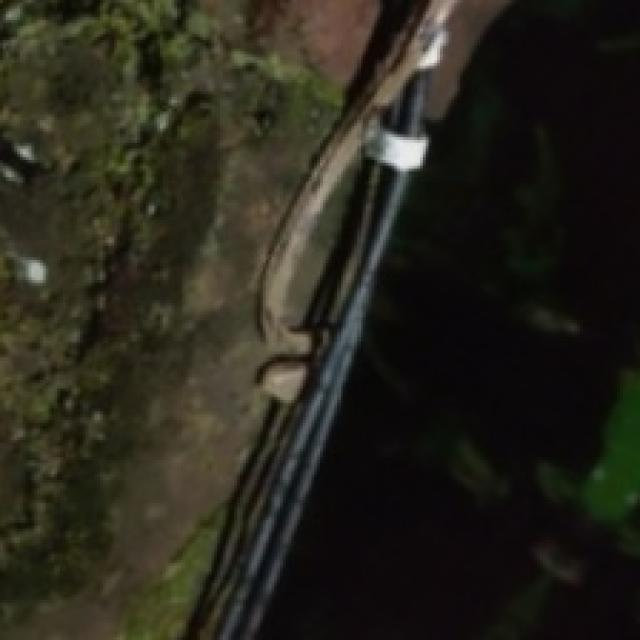dog-toothed cat snake: (259, 0, 456, 401)
